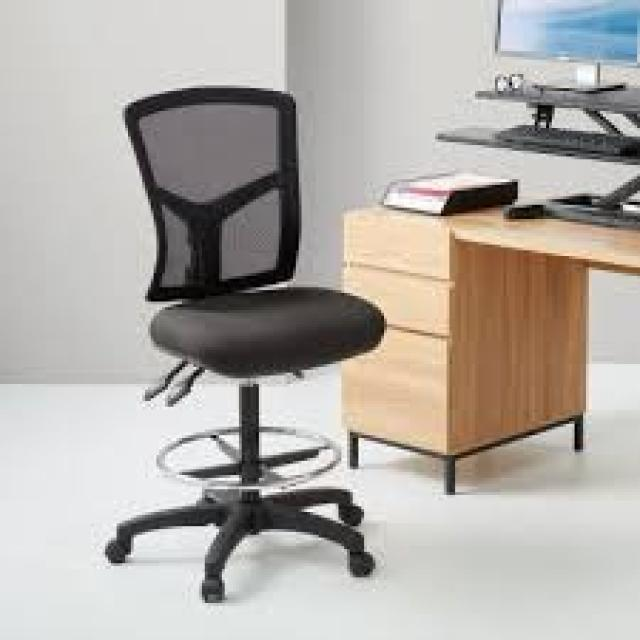chair: (96, 64, 398, 633)
